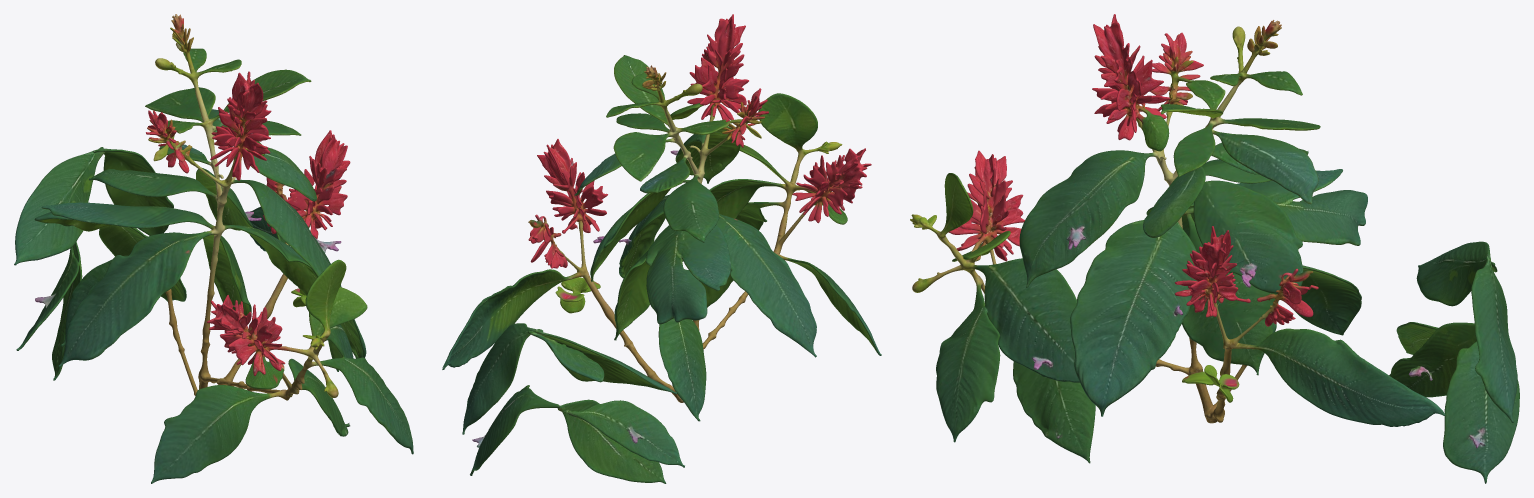
File: megaskepasma_erythrochlamys.fbx
The picture shows the model from 3 angles, left to right: view 1: azimuth 30°, elevation 25°; view 2: azimuth 150°, elevation 25°; view 3: azimuth 270°, elevation 25°; orthographic projection. The views are drawn at different scales.
Visible parts, largest first — view 1: tripo_node_29cbde95; view 2: tripo_node_29cbde95; view 3: tripo_node_29cbde95.
Part boxes in pixels (x1,y1,x2,y2): tripo_node_29cbde95: (14,14,413,483); tripo_node_29cbde95: (442,14,881,483); tripo_node_29cbde95: (910,14,1519,483).
Bounding box in the file's own units: 58.22 × 74 × 98.27.
Materials: 1 (1 with a texture image).
